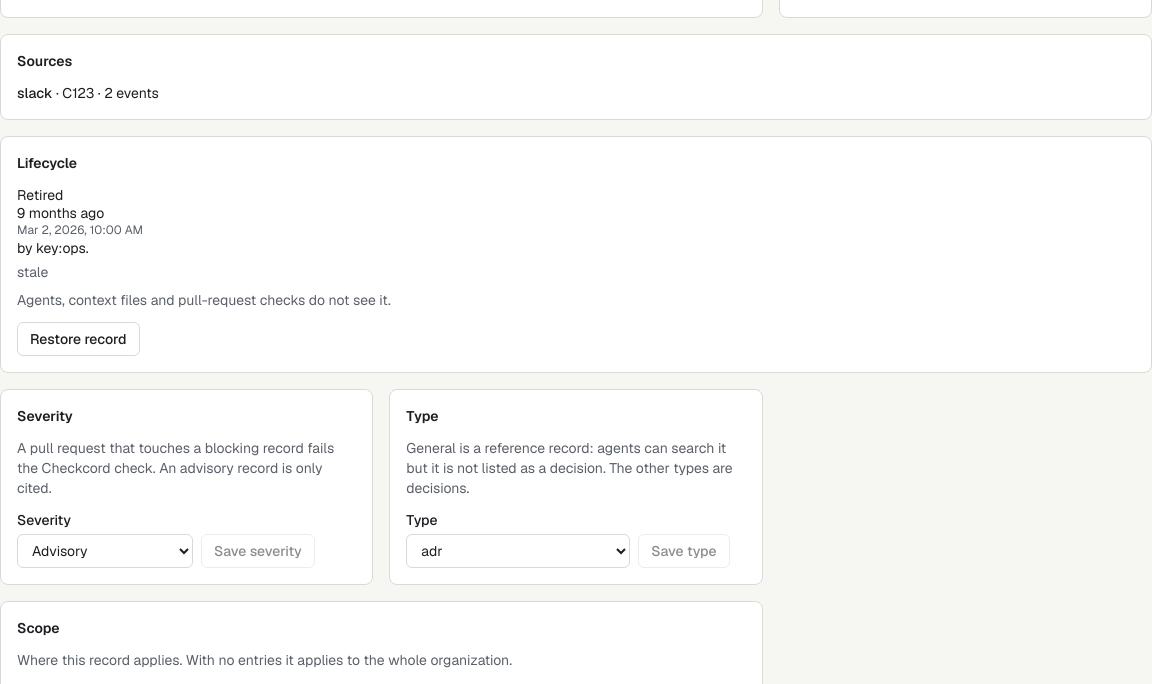
Test: destructive actions ask first › a retired record restores without a dialog
The image size is (1152, 684).
(page scrolled)
Expected: the text "stale" is shown, [17,263,48,281]
What coordinates should you click on to do the following:
click the button "Restore record"
I would click on:
 (78, 339)
Its box is [17,322,140,356].
(page scrolled)
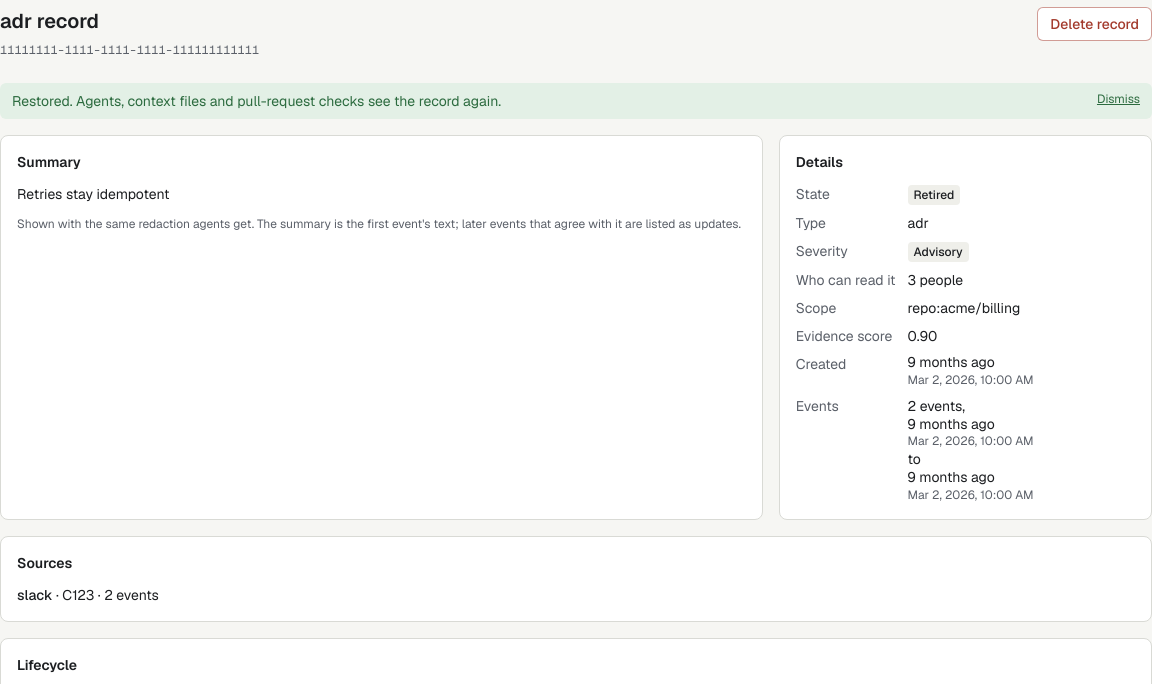
Expected: the text "Restored." is shown, [12,92,501,110]
